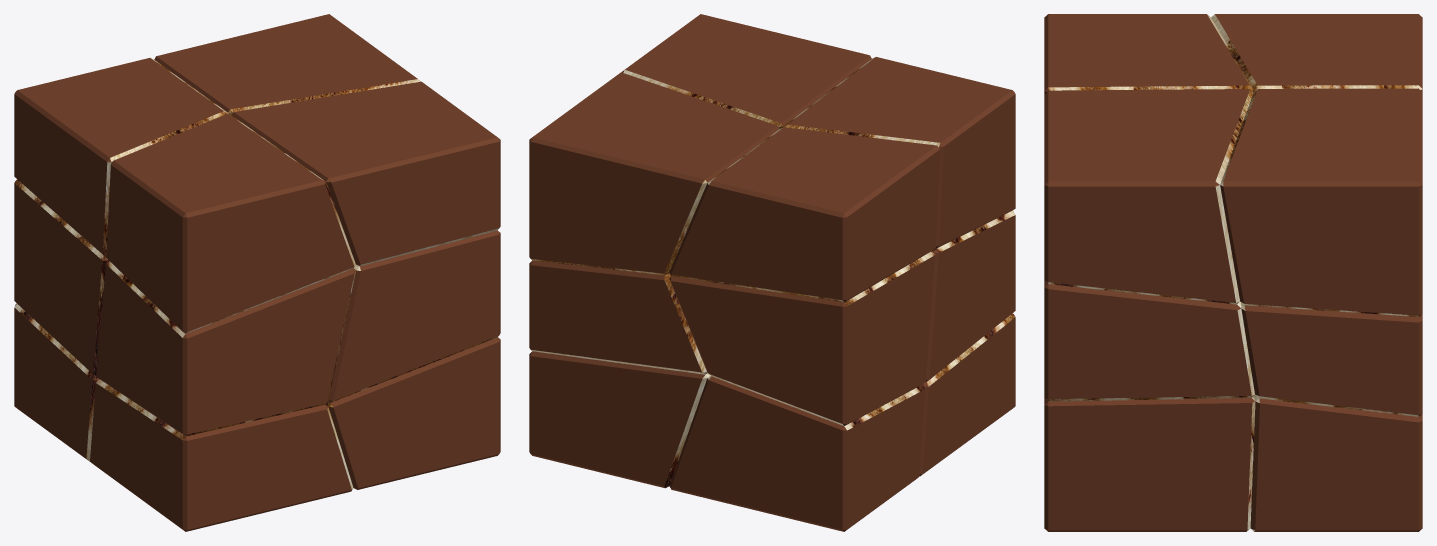
File: brick_cake-broken.glb
3 renders of one model, left to right at view 1: azimuth 30°, elevation 25°; view 2: azimuth 150°, elevation 25°; view 3: azimuth 270°, elevation 25°, orthographic. The views are drawn at different scales.
Parts seen in each view (by area): view 1: fragment_08, fragment_09, fragment_04, fragment_00, fragment_10, fragment_05, fragment_01, fragment_11, fragment_06, fragment_02; view 2: fragment_10, fragment_11, fragment_06, fragment_02, fragment_08, fragment_03, fragment_09, fragment_07, fragment_04, fragment_00; view 3: fragment_11, fragment_09, fragment_01, fragment_05, fragment_03, fragment_07, fragment_10, fragment_08.
Boxes of the visible parts, <box> form: fragment_08: <box>106,113,355,333</box>; fragment_09: <box>232,81,500,266</box>; fragment_04: <box>96,260,355,436</box>; fragment_00: <box>90,379,353,531</box>; fragment_10: <box>14,58,228,256</box>; fragment_05: <box>328,230,500,402</box>; fragment_01: <box>326,337,500,489</box>; fragment_11: <box>154,14,420,115</box>; fragment_06: <box>14,179,107,375</box>; fragment_02: <box>14,303,98,461</box>; fragment_10: <box>669,127,940,302</box>; fragment_11: <box>529,72,779,275</box>; fragment_06: <box>669,251,935,425</box>; fragment_02: <box>669,376,925,531</box>; fragment_08: <box>782,57,1015,248</box>; fragment_03: <box>529,351,710,488</box>; fragment_09: <box>622,14,871,128</box>; fragment_07: <box>529,260,707,374</box>; fragment_04: <box>926,210,1015,381</box>; fragment_00: <box>919,313,1015,476</box>; fragment_11: <box>1220,88,1422,316</box>; fragment_09: <box>1044,89,1253,304</box>; fragment_01: <box>1044,397,1255,531</box>; fragment_05: <box>1044,280,1254,401</box>; fragment_03: <box>1250,395,1422,531</box>; fragment_07: <box>1241,302,1422,416</box>; fragment_10: <box>1211,14,1422,92</box>; fragment_08: <box>1044,14,1252,94</box>.
Bounding box in the file's own units: 1.88 × 1.8 × 1.76.
2 materials, 1 textured.
